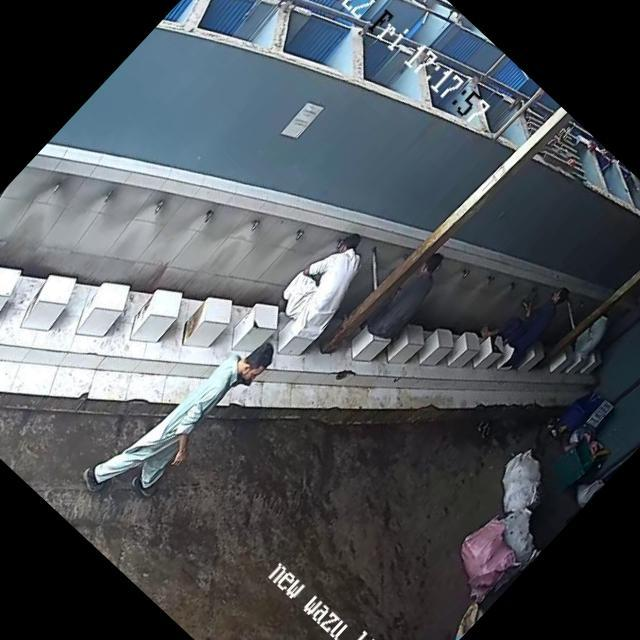person: (76, 312, 282, 526), (266, 226, 382, 346), (364, 250, 461, 351), (484, 280, 574, 372), (572, 314, 620, 362)
